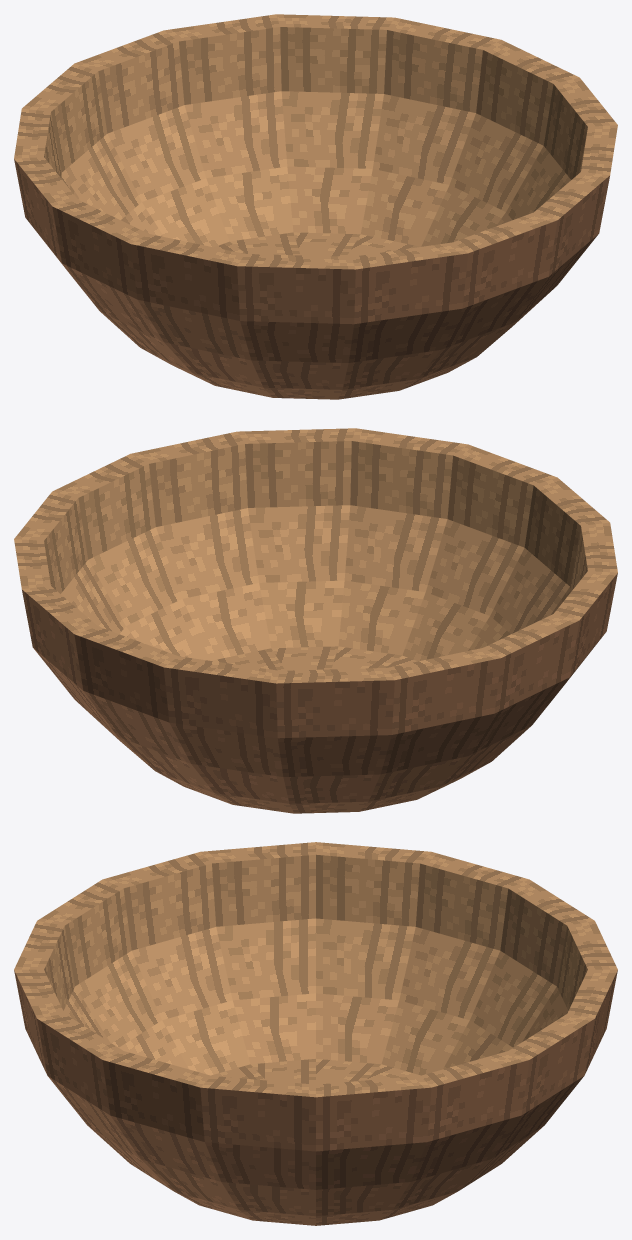
The model's file is bowl_wood_large.glb.
3 renders of one model, top to bottom at view 1: azimuth 30°, elevation 25°; view 2: azimuth 150°, elevation 25°; view 3: azimuth 270°, elevation 25°, orthographic.
Parts seen in each view (by area): view 1: block_carved wooden bowl; view 2: block_carved wooden bowl; view 3: block_carved wooden bowl.
Boxes of the visible parts, x1,y1,x2,y2 form: block_carved wooden bowl: (14,14,617,399); block_carved wooden bowl: (14,428,617,813); block_carved wooden bowl: (14,842,617,1225).
Size of the model in its own units: 0.174 by 0.0593 by 0.174.
Materials: 1 (1 with a texture image).
